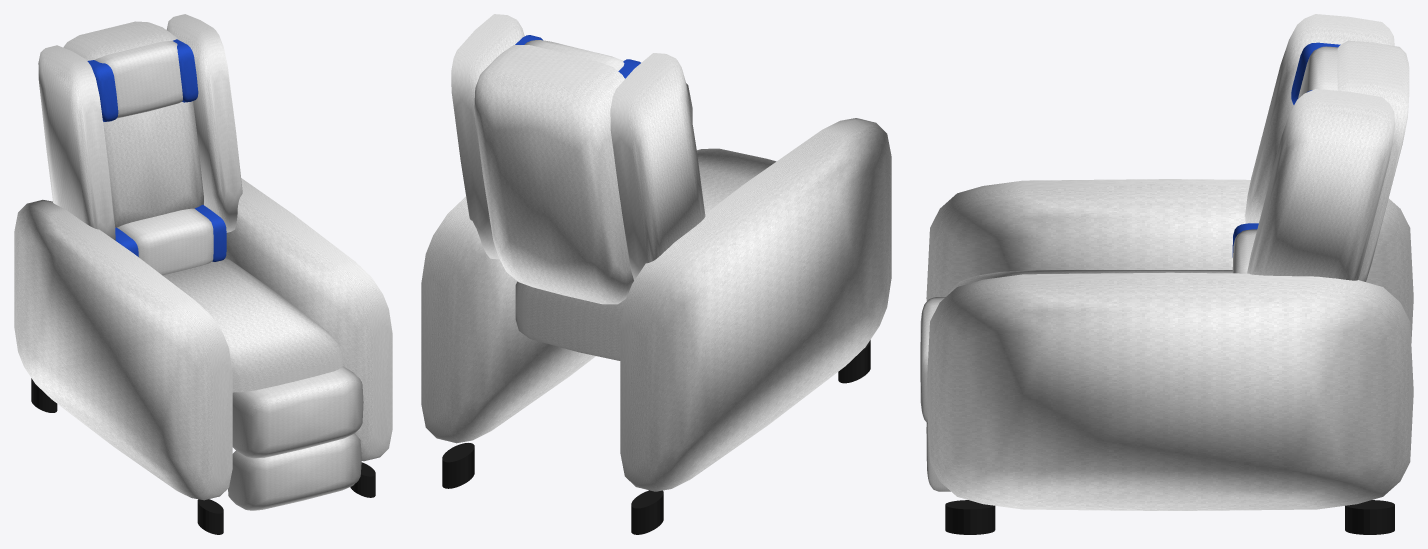
3 renders of one model, left to right at view 1: azimuth 30°, elevation 25°; view 2: azimuth 150°, elevation 25°; view 3: azimuth 270°, elevation 25°, orthographic. The views are drawn at different scales.
Visible parts, largest first — view 1: 5 left_armrest, 6 right_armrest, 10 backrest, 7 seat, 11 left_wing, 8 footrest_upper, 12 right_wing, 9 footrest_lower, 13 headrest, 16 lumbar_pillow, 14 headrest_accent_l, 15 headrest_accent_r (+4 smaller); view 2: 5 left_armrest, 10 backrest, 6 right_armrest, 11 left_wing, 7 seat, 12 right_wing, 4 foot_br, 3 foot_bl, 13 headrest, 1 foot_fl; view 3: 6 right_armrest, 5 left_armrest, 12 right_wing, 11 left_wing, 10 backrest, 2 foot_fr, 4 foot_br, 13 headrest, 7 seat, 8 footrest_upper, 16 lumbar_pillow, 14 headrest_accent_l.
Part boxes in pixels (<box>): 5 left_armrest: <box>14,199,232,500</box>; 6 right_armrest: <box>226,178,392,461</box>; 10 backrest: <box>63,21,203,227</box>; 7 seat: <box>162,257,342,392</box>; 11 left_wing: <box>38,45,115,240</box>; 8 footrest_upper: <box>232,366,363,458</box>; 12 right_wing: <box>166,14,242,232</box>; 9 footrest_lower: <box>228,433,361,510</box>; 13 headrest: <box>94,41,182,118</box>; 16 lumbar_pillow: <box>117,208,213,275</box>; 14 headrest_accent_l: <box>87,60,118,121</box>; 15 headrest_accent_r: <box>173,39,198,102</box>; 5 left_armrest: <box>620,118,891,491</box>; 10 backrest: <box>474,45,633,304</box>; 6 right_armrest: <box>421,83,692,443</box>; 11 left_wing: <box>610,53,705,280</box>; 7 seat: <box>515,148,776,360</box>; 12 right_wing: <box>451,14,524,259</box>; 4 foot_br: <box>442,443,474,488</box>; 3 foot_bl: <box>631,490,663,534</box>; 13 headrest: <box>524,40,624,71</box>; 1 foot_fl: <box>838,340,870,383</box>; 6 right_armrest: <box>926,272,1413,510</box>; 5 left_armrest: <box>926,179,1413,342</box>; 12 right_wing: <box>1247,89,1394,280</box>; 11 left_wing: <box>1245,14,1394,223</box>; 10 backrest: <box>1337,40,1409,281</box>; 2 foot_fr: <box>945,500,995,534</box>; 4 foot_br: <box>1345,500,1394,534</box>; 13 headrest: <box>1298,46,1337,98</box>; 7 seat: <box>948,270,1232,293</box>; 8 footrest_upper: <box>920,297,945,423</box>; 16 lumbar_pillow: <box>1232,229,1257,273</box>; 14 headrest_accent_l: <box>1291,42,1340,104</box>.
Bounding box in the file's own units: 0.7396 × 1.32 × 1.37.
3 materials, 2 textured.
